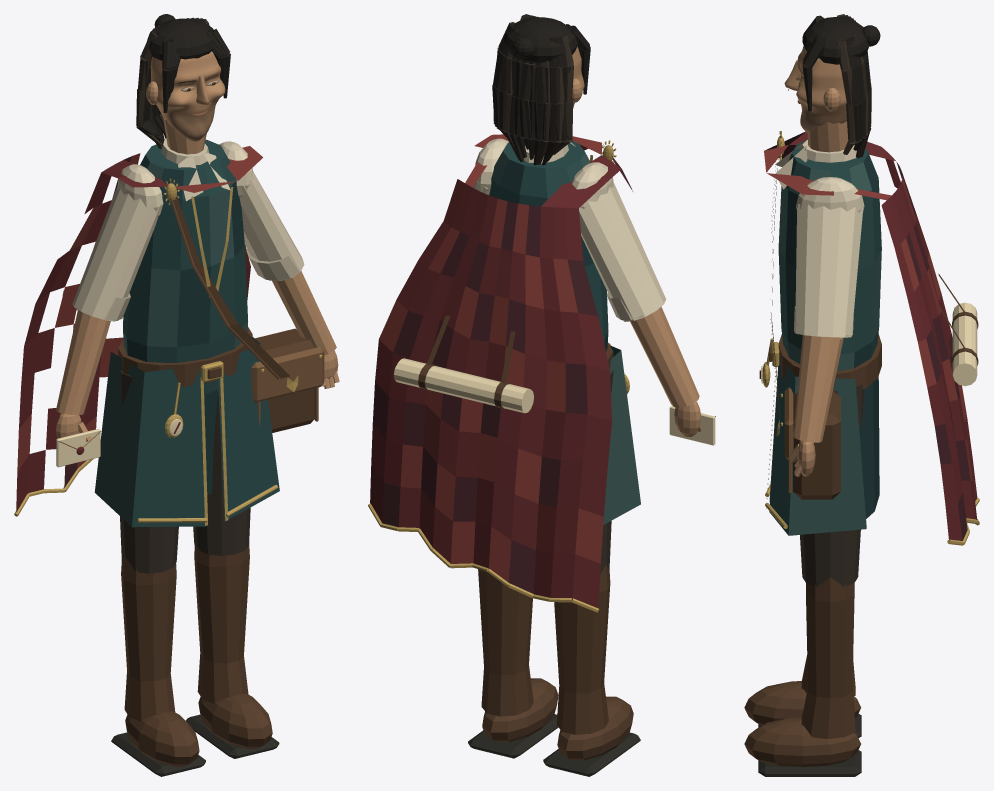
File: human-courier.glb
3 views of the same model, side by side, from view 1: azimuth 30°, elevation 25°; view 2: azimuth 150°, elevation 25°; view 3: azimuth 270°, elevation 25° (orthographic). The views are drawn at different scales.
Visible parts, largest first — view 1: Waistcoat, Split_coat_R, Cloak_folds, Boot_shaft_R, Boot_shaft_L, Split_coat_L, Linen_sleeve_R, Face, Forearm_R, Linen_sleeve_L, Trouser_thigh_L, Boot_toe_L (+16 smaller); view 2: Cloak_folds, Boot_shaft_R, Boot_shaft_L, Linen_sleeve_R, Waistcoat, Split_coat_R, Map_roll, Forearm_R, Boot_toe_R, Boot_toe_L, Hair_crown, Boot_sole_R (+5 smaller); view 3: Cloak_folds, Waistcoat, Linen_sleeve_L, Boot_shaft_L, Split_coat_L, Boot_toe_L, Forearm_L, Trouser_thigh_L, Messenger_satchel, Face, Back_coat, Boot_toe_R (+9 smaller).
Boxes of the visible parts, left/top/right/bottom form: Waistcoat: left=123, top=139, right=247, bottom=393; Split_coat_R: left=94, top=352, right=205, bottom=527; Cloak_folds: left=16, top=146, right=262, bottom=512; Boot_shaft_R: left=121, top=556, right=176, bottom=721; Boot_shaft_L: left=194, top=542, right=249, bottom=703; Split_coat_L: left=218, top=337, right=279, bottom=521; Linen_sleeve_R: left=72, top=185, right=160, bottom=321; Face: left=150, top=51, right=225, bottom=141; Forearm_R: left=56, top=310, right=110, bottom=415; Linen_sleeve_L: left=239, top=171, right=304, bottom=281; Trouser_thigh_L: left=193, top=392, right=250, bottom=555; Boot_toe_L: left=198, top=693, right=272, bottom=749; Cloak_folds: left=370, top=134, right=632, bottom=607; Boot_shaft_R: left=554, top=565, right=610, bottom=734; Boot_shaft_L: left=478, top=569, right=533, bottom=716; Linen_sleeve_R: left=579, top=181, right=666, bottom=321; Waistcoat: left=489, top=141, right=608, bottom=351; Split_coat_R: left=603, top=345, right=640, bottom=524; Map_roll: left=393, top=358, right=533, bottom=413; Forearm_R: left=630, top=306, right=699, bottom=407; Boot_toe_R: left=557, top=696, right=633, bottom=760; Boot_toe_L: left=482, top=678, right=558, bottom=741; Hair_crown: left=503, top=17, right=577, bottom=62; Boot_sole_R: left=543, top=732, right=640, bottom=776; Cloak_folds: left=764, top=131, right=977, bottom=541; Waistcoat: left=778, top=139, right=881, bottom=371; Linen_sleeve_L: left=795, top=204, right=863, bottom=337; Boot_shaft_L: left=801, top=577, right=855, bottom=738; Split_coat_L: left=769, top=351, right=866, bottom=535; Boot_toe_L: left=744, top=717, right=860, bottom=767; Forearm_L: left=793, top=335, right=843, bottom=442; Trouser_thigh_L: left=800, top=384, right=864, bottom=587; Messenger_satchel: left=793, top=390, right=840, bottom=499; Face: left=796, top=46, right=846, bottom=132; Back_coat: left=858, top=376, right=879, bottom=518; Boot_toe_R: left=744, top=681, right=861, bottom=725.
Size of the model in its own units: 0.7395 by 1.75 by 0.5149.
